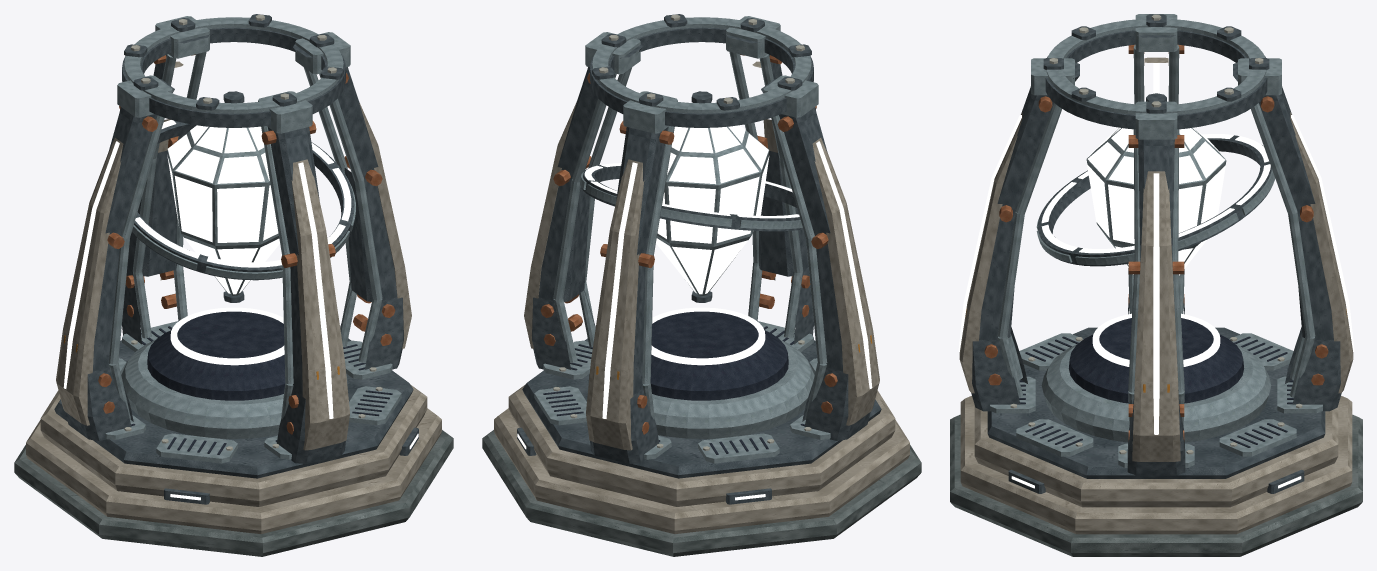
File: ap_nucleo.glb
3 renders of one model, left to right at view 1: azimuth 30°, elevation 25°; view 2: azimuth 150°, elevation 25°; view 3: azimuth 270°, elevation 25°, orthographic.
Parts seen in each view (by area): view 1: estructura, nucleo, anillo; view 2: estructura, nucleo, anillo; view 3: estructura, nucleo, anillo.
Part boxes in pixels (bbox=[...]): estructura: bbox=[14, 14, 453, 556]; nucleo: bbox=[167, 91, 279, 302]; anillo: bbox=[132, 120, 355, 280]; estructura: bbox=[482, 14, 921, 556]; nucleo: bbox=[656, 91, 769, 302]; anillo: bbox=[580, 163, 803, 231]; estructura: bbox=[950, 14, 1362, 556]; nucleo: bbox=[1086, 93, 1226, 275]; anillo: bbox=[1036, 134, 1275, 266].
Bounding box in the file's own units: 4.43 × 4.87 × 4.43.
Materials: 2 (1 with a texture image).
